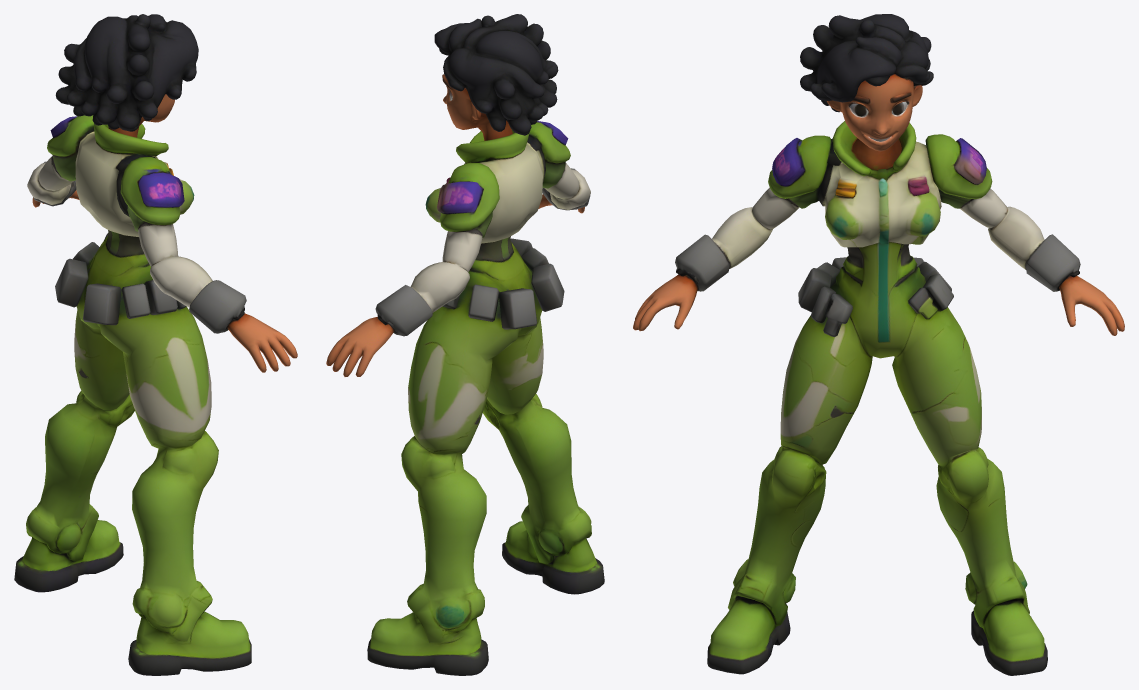
Rendered from botanist.glb.
3 views of the same model, side by side, from view 1: azimuth 30°, elevation 25°; view 2: azimuth 150°, elevation 25°; view 3: azimuth 270°, elevation 25° (orthographic). The views are drawn at different scales.
Parts seen in each view (by area): view 1: tripo_node_bd0af9c0-4657-4c0a-8d75-fc2bd36df0e1; view 2: tripo_node_bd0af9c0-4657-4c0a-8d75-fc2bd36df0e1; view 3: tripo_node_bd0af9c0-4657-4c0a-8d75-fc2bd36df0e1.
Part boxes in pixels (x1,y1,x2,y2): tripo_node_bd0af9c0-4657-4c0a-8d75-fc2bd36df0e1: (14,14,297,675); tripo_node_bd0af9c0-4657-4c0a-8d75-fc2bd36df0e1: (326,14,604,675); tripo_node_bd0af9c0-4657-4c0a-8d75-fc2bd36df0e1: (633,14,1124,675).
Size of the model in its own units: 0.2026 by 0.9995 by 0.7046.
1 material, 1 textured.
